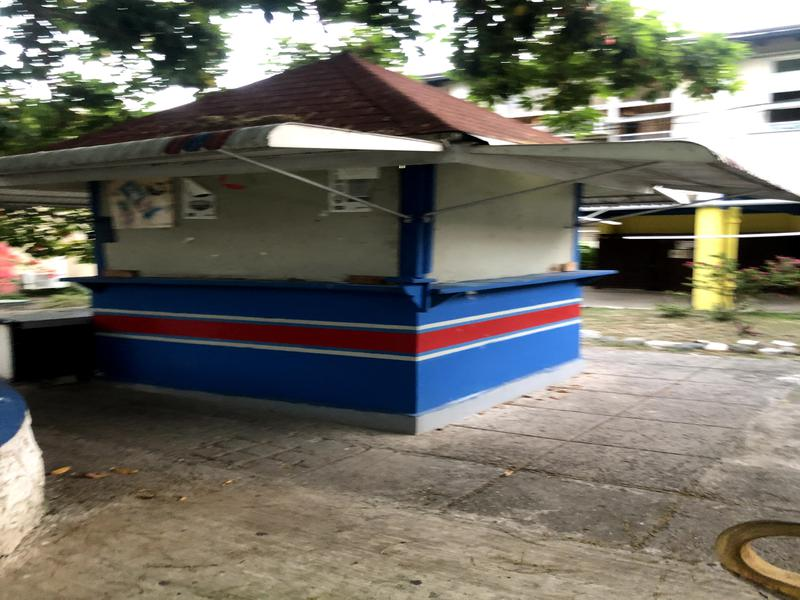18.0050609_-76.7496662_auntyjackie: (1, 38, 797, 441)
